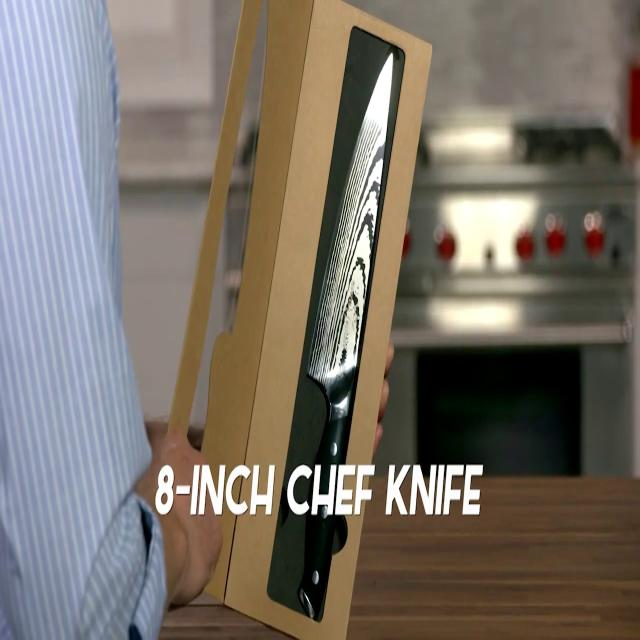Knife: (297, 52, 394, 622)
